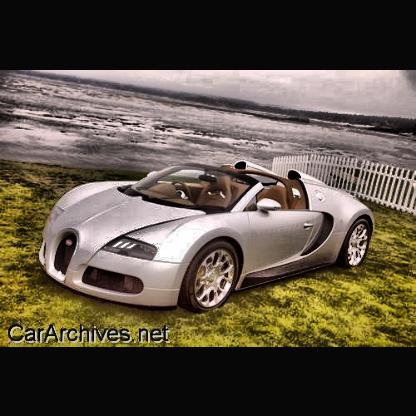Bugatti Veyron 16-4 Convertible 2009: (36, 162, 380, 313)
